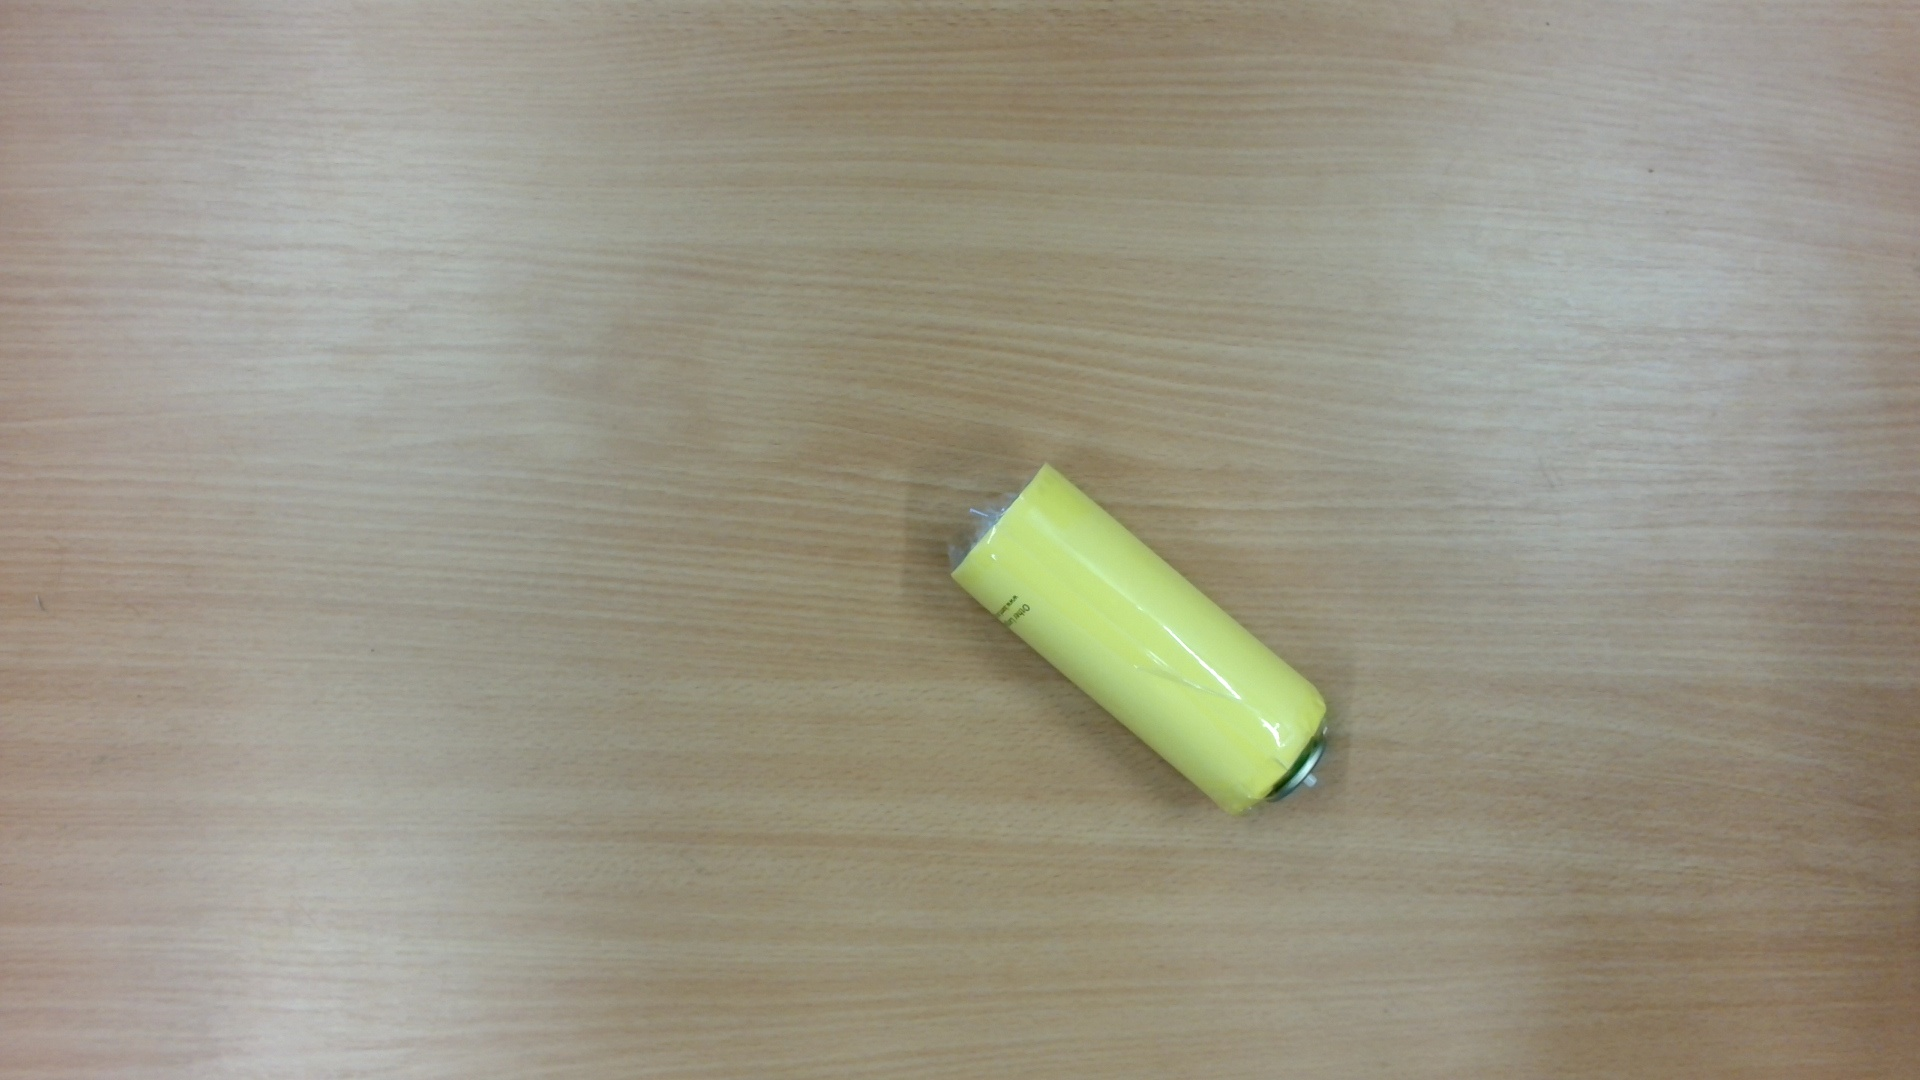Cylinder: (939, 452, 1364, 829)
